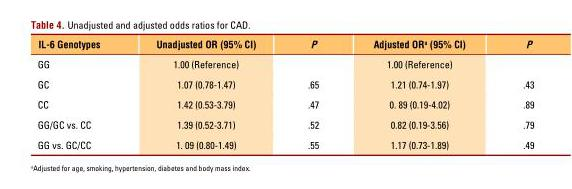table: (36, 37, 533, 150)
table column: (127, 37, 281, 150), (345, 37, 493, 150), (36, 37, 127, 150), (281, 37, 345, 150), (493, 37, 533, 150)
table column header: (36, 37, 533, 53)
table row: (36, 113, 533, 134), (36, 53, 533, 73), (36, 73, 533, 93), (36, 93, 533, 113), (36, 37, 533, 53), (36, 134, 533, 150)
